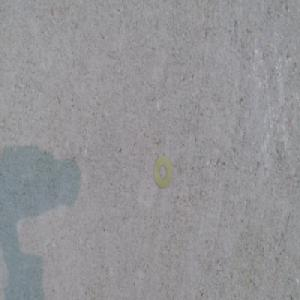Washer: (152, 157, 173, 190)
